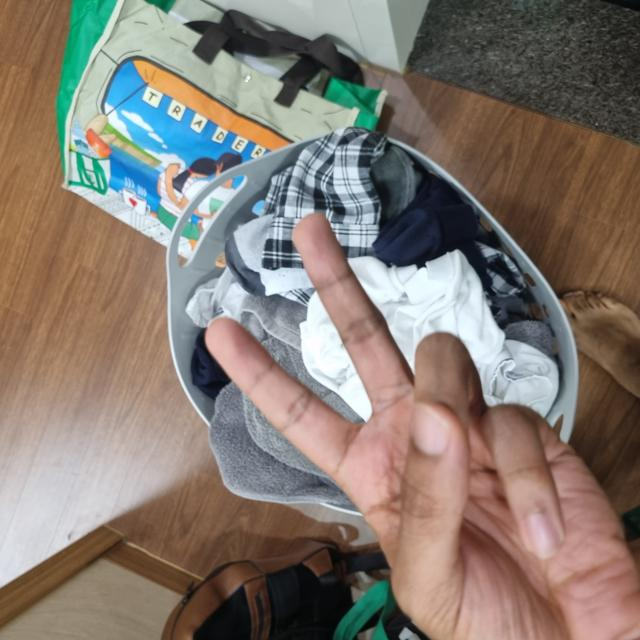Scissors: (0, 204, 424, 638)
